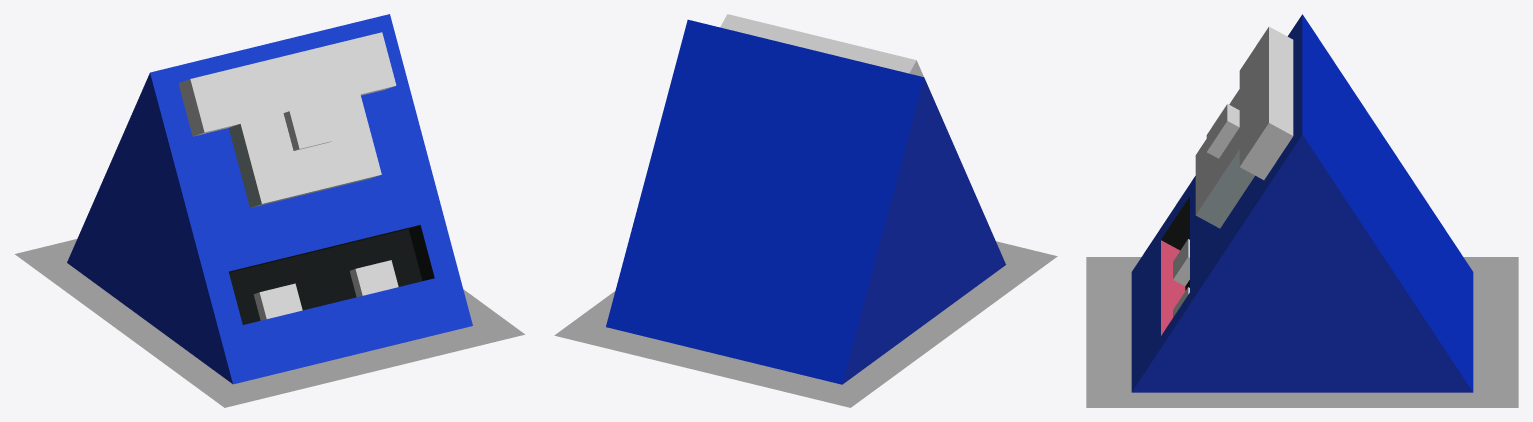
File: EN_MobileBit_Blue.fbx
The picture shows the model from 3 angles, left to right: view 1: azimuth 30°, elevation 25°; view 2: azimuth 150°, elevation 25°; view 3: azimuth 270°, elevation 25°; orthographic projection. The views are drawn at different scales.
Parts seen in each view (by area): view 1: Body, Mouth, Shadow, Eyebrow, Eye, Pupil; view 2: Body, Shadow, Eyebrow; view 3: Body, Shadow, Eyebrow, Mouth, Eye, Pupil.
Part boxes in pixels (x1,y1,x2,y2): Body: (67, 14, 472, 384); Mouth: (243, 260, 448, 378); Shadow: (15, 239, 524, 407); Eyebrow: (178, 32, 396, 136); Eye: (228, 94, 381, 207); Pupil: (283, 103, 333, 150); Body: (606, 19, 1005, 384); Shadow: (554, 241, 1057, 407); Eyebrow: (720, 14, 923, 76); Body: (1131, 14, 1473, 392); Shadow: (1086, 257, 1518, 407); Eyebrow: (1239, 26, 1293, 179); Mouth: (1131, 239, 1189, 379); Eye: (1195, 89, 1254, 228); Pupil: (1206, 104, 1239, 158).
Size of the model in its own units: 62.68 by 50 by 75.87.
